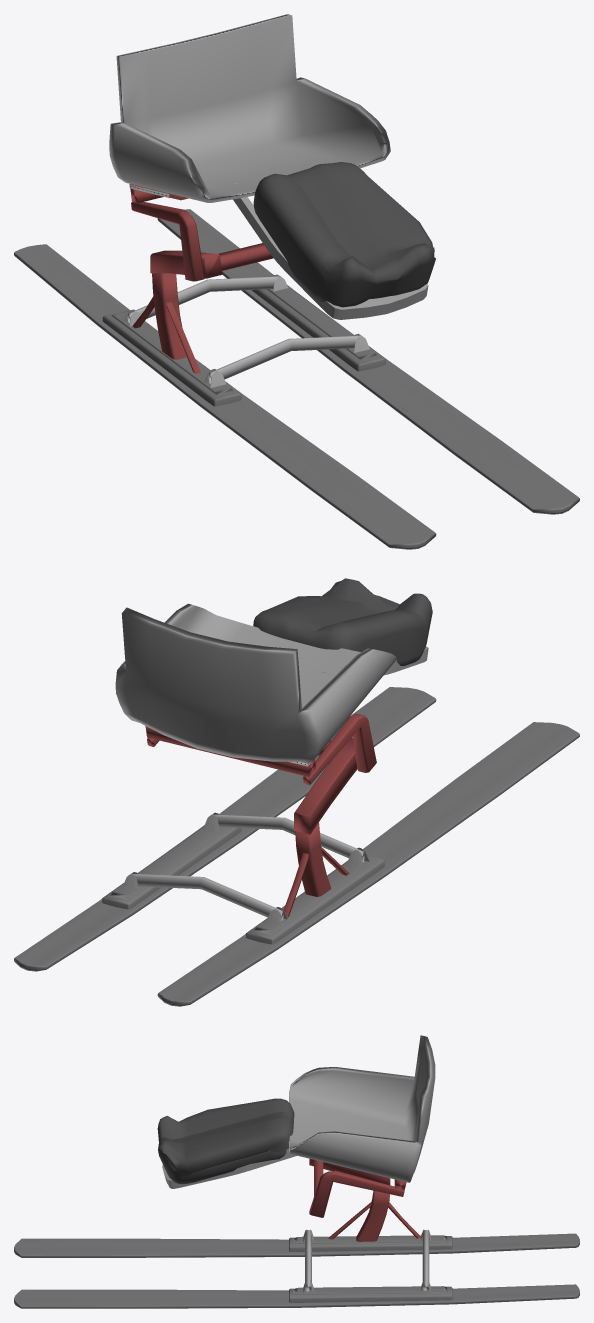
Rendered from SitSki.fbx.
3 renders of one model, top to bottom at view 1: azimuth 30°, elevation 25°; view 2: azimuth 150°, elevation 25°; view 3: azimuth 270°, elevation 25°, orthographic. The views are drawn at different scales.
Parts seen in each view (by area): view 1: Ski; view 2: Ski; view 3: Ski.
Part boxes in pixels (x1,y1,x2,y2): Ski: (14,14,579,549); Ski: (14,578,579,1006); Ski: (14,1035,579,1308).
Bounding box in the file's own units: 2.81 × 3.9 × 9.47.
